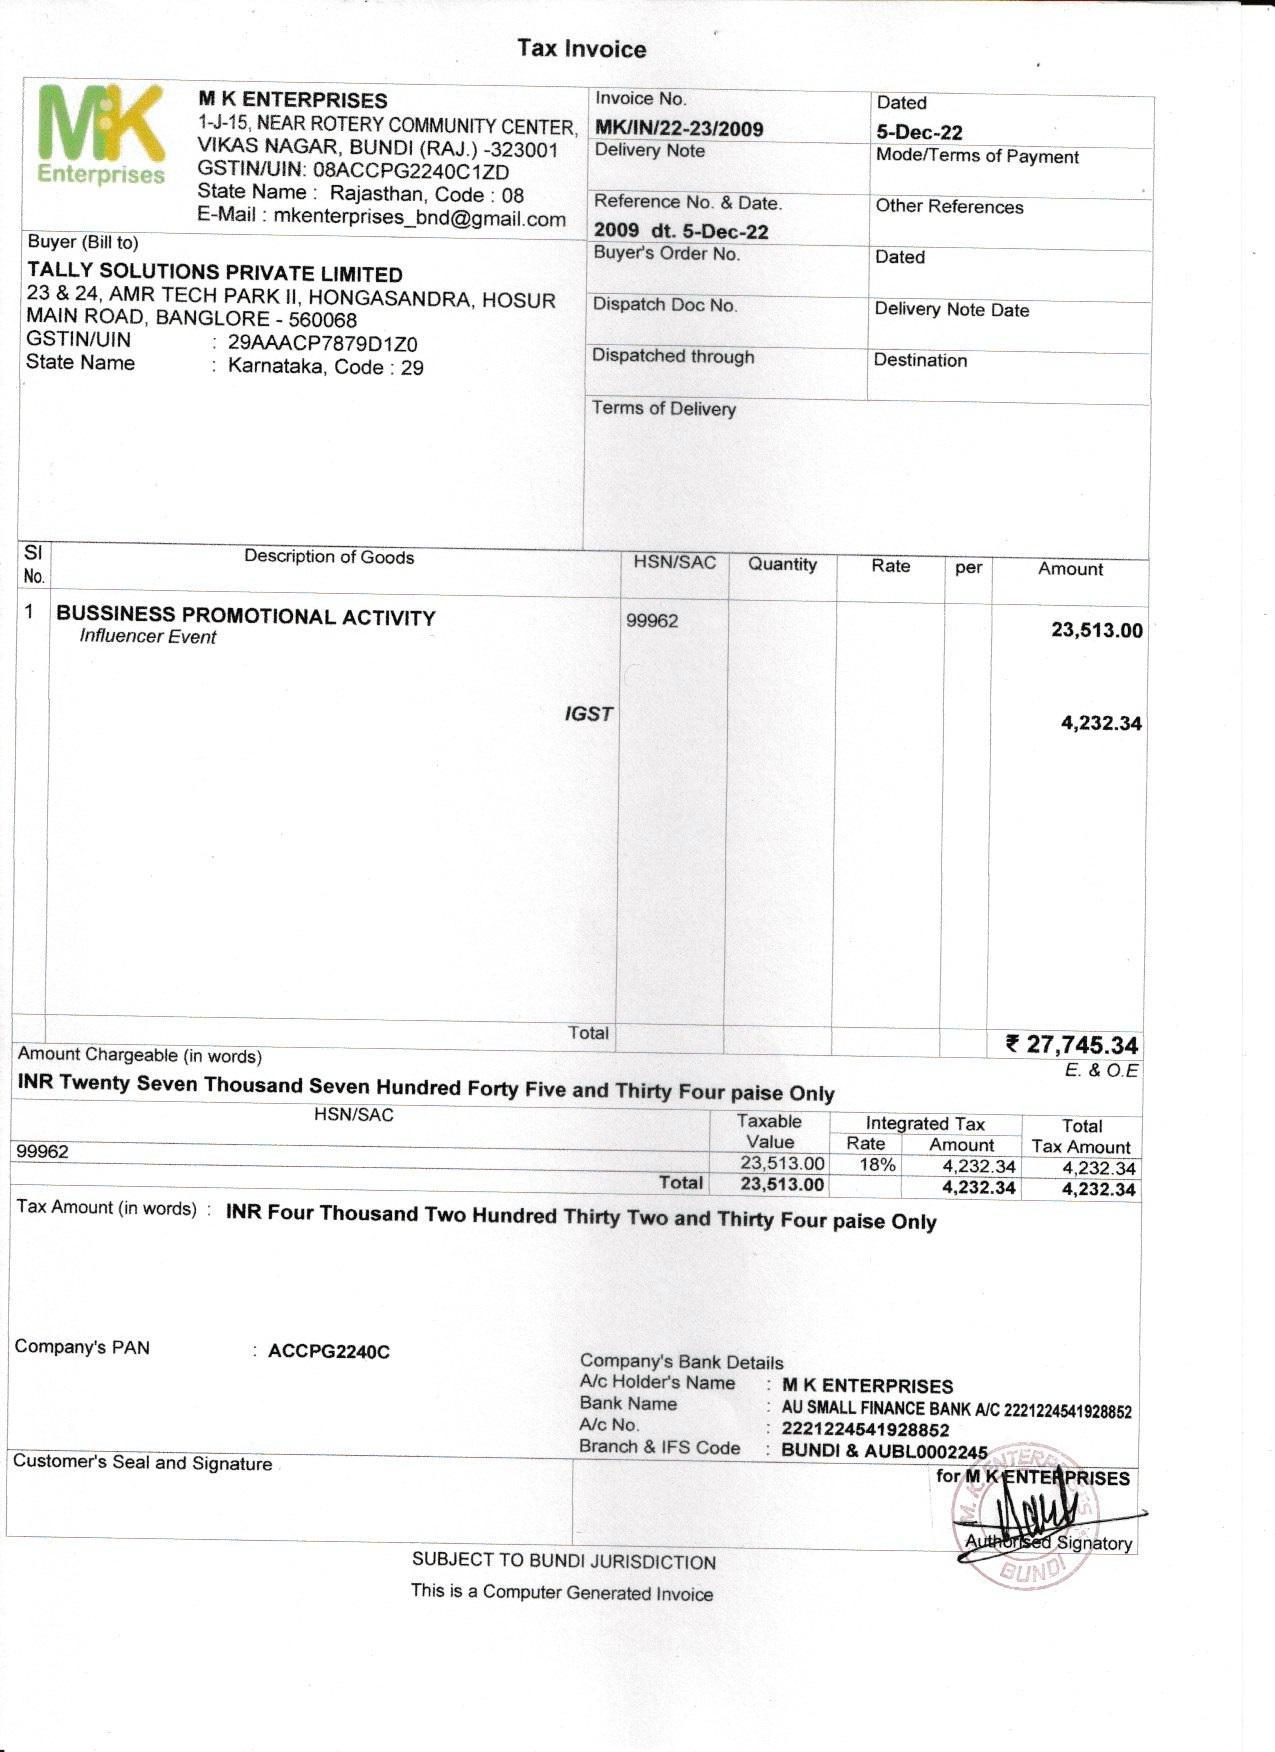InvoiceDate: (870, 116, 976, 150)
InvoiceNumber: (591, 109, 774, 146)
TotalAmount: (987, 1026, 1154, 1061)
